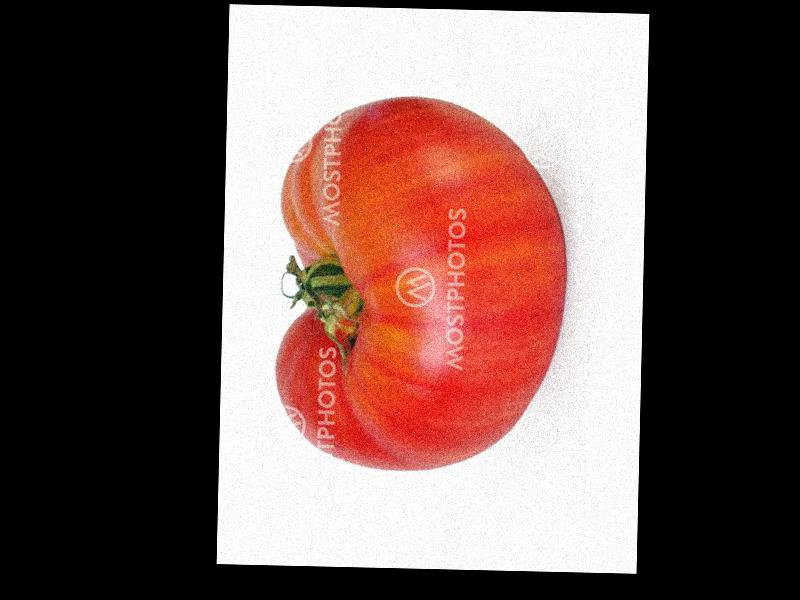Tomato: (272, 93, 569, 472)
